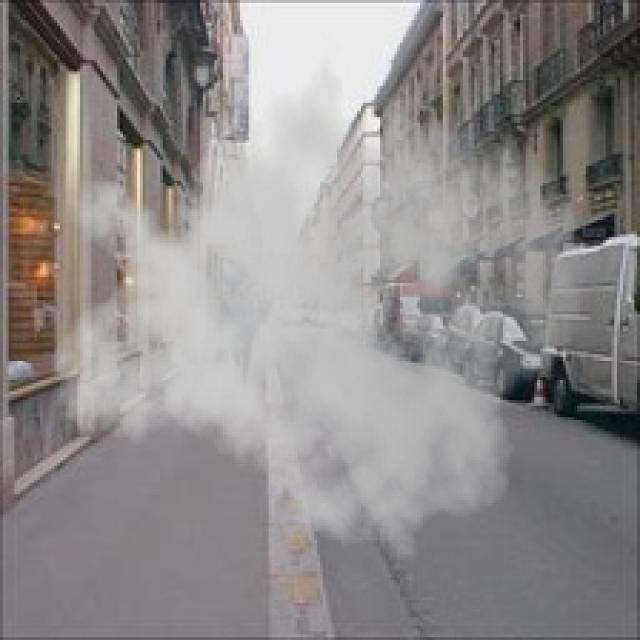Smoke: (48, 32, 586, 574)
